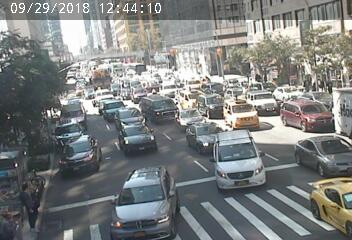car: (121, 169, 173, 217), (219, 144, 257, 187), (302, 141, 340, 168), (69, 140, 97, 175), (284, 97, 318, 123), (122, 125, 154, 145), (252, 93, 280, 115), (316, 180, 339, 202), (229, 104, 251, 126), (205, 92, 223, 118), (63, 101, 90, 118), (190, 125, 213, 143), (152, 94, 173, 113), (103, 101, 131, 115), (178, 110, 204, 124), (122, 81, 146, 95), (56, 125, 84, 136), (121, 111, 146, 123), (181, 89, 198, 102), (278, 86, 296, 96), (94, 89, 111, 98)
